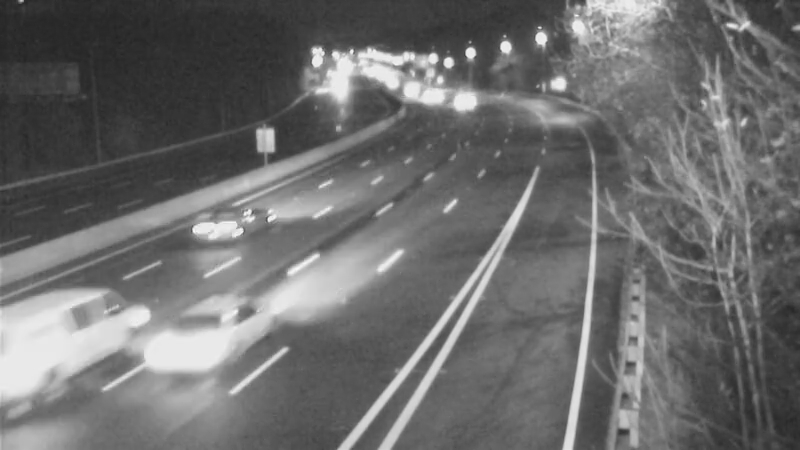vehicle: (126, 289, 236, 399), (1, 305, 90, 415), (192, 181, 272, 261), (406, 68, 456, 118), (439, 75, 489, 125)
